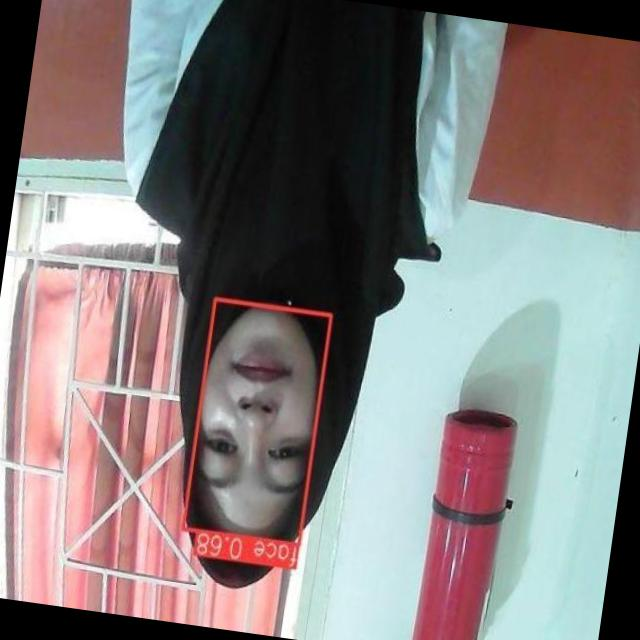bareface: (174, 299, 336, 554)
